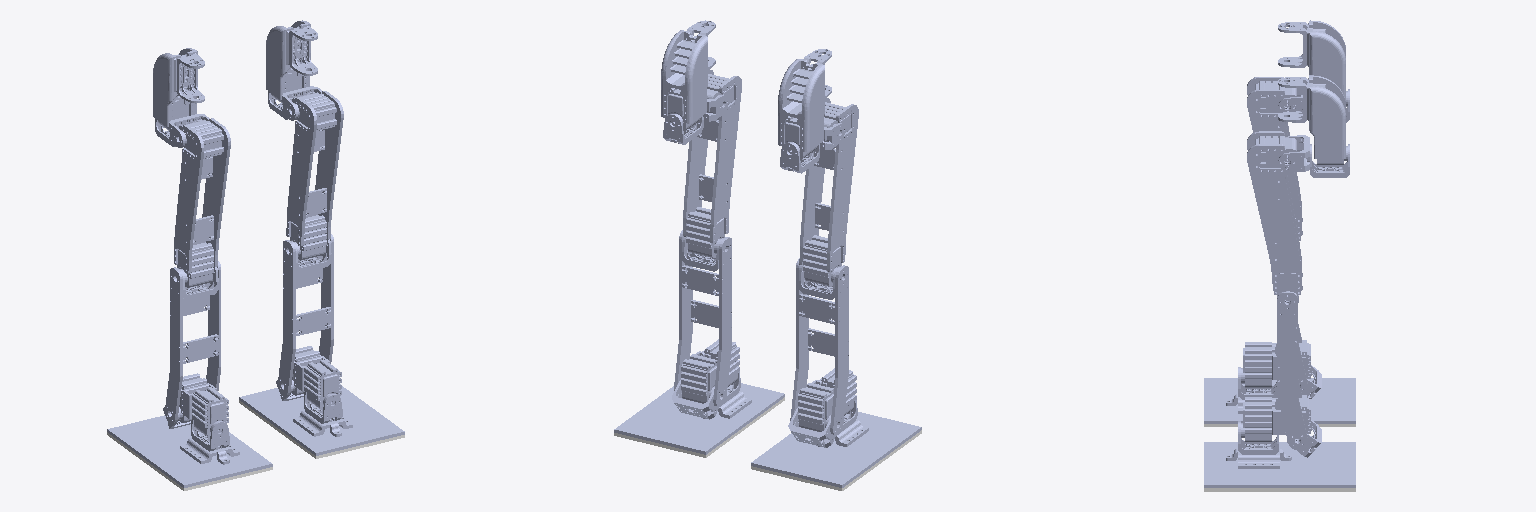
--- What the picture shows (computed from the rendered views, not written in the file) ---
Views: 3 orthographic renders of the robot side by side, from view 1: azimuth 30°, elevation 25°; view 2: azimuth 150°, elevation 25°; view 3: azimuth 270°, elevation 25°.
Robot: biped_sensor — 21 links, 20 joints (20 revolute); root link bacino; default pose: every joint at zero.
Links seen in each view (by area): view 1: femore_sx, femore_dx, piede_dx, piede_sx, tibia_dx, tibia_sx, virtual_alto_sx, virtual_alto_dx, virtual_piede_sx, virtual_piede_dx, virtual_basso_dx, virtual_basso_sx; view 2: femore_dx, femore_sx, piede_dx, tibia_dx, tibia_sx, piede_sx, virtual_alto_sx, virtual_alto_dx, virtual_piede_sx, virtual_piede_dx, virtual_basso_sx, virtual_basso_dx; view 3: piede_sx, femore_sx, piede_dx, virtual_alto_sx, tibia_sx, virtual_alto_dx, femore_dx, virtual_piede_sx, virtual_piede_dx, virtual_basso_sx, tibia_dx.
Boxes of the visible links, left/top/right/bottom form: femore_sx: left=286, top=91, right=343, bottom=260; femore_dx: left=174, top=118, right=230, bottom=287; piede_dx: left=107, top=415, right=272, bottom=487; piede_sx: left=239, top=386, right=404, bottom=455; tibia_dx: left=163, top=261, right=220, bottom=428; tibia_sx: left=276, top=234, right=333, bottom=400; virtual_alto_sx: left=266, top=20, right=317, bottom=103; virtual_alto_dx: left=153, top=48, right=204, bottom=130; virtual_piede_sx: left=292, top=346, right=341, bottom=410; virtual_piede_dx: left=179, top=373, right=228, bottom=437; virtual_basso_dx: left=155, top=114, right=209, bottom=147; virtual_basso_sx: left=268, top=86, right=321, bottom=120; femore_dx: left=799, top=98, right=858, bottom=286; femore_sx: left=683, top=70, right=741, bottom=257; piede_dx: left=751, top=400, right=921, bottom=487; tibia_dx: left=788, top=258, right=848, bottom=447; tibia_sx: left=672, top=230, right=731, bottom=419; piede_sx: left=614, top=371, right=784, bottom=454; virtual_alto_sx: left=661, top=20, right=715, bottom=130; virtual_alto_dx: left=778, top=49, right=831, bottom=159; virtual_piede_sx: left=681, top=339, right=739, bottom=403; virtual_piede_dx: left=798, top=368, right=856, bottom=431; virtual_basso_sx: left=663, top=94, right=728, bottom=144; virtual_basso_dx: left=780, top=123, right=845, bottom=173; piede_sx: left=1204, top=421, right=1355, bottom=487; femore_sx: left=1247, top=131, right=1302, bottom=302; piede_dx: left=1204, top=367, right=1355, bottom=423; virtual_alto_sx: left=1278, top=75, right=1347, bottom=164; tibia_sx: left=1277, top=291, right=1321, bottom=457; virtual_alto_dx: left=1278, top=20, right=1347, bottom=106; femore_dx: left=1247, top=77, right=1302, bottom=240; virtual_piede_sx: left=1241, top=395, right=1310, bottom=442; virtual_piede_dx: left=1241, top=340, right=1310, bottom=387; virtual_basso_sx: left=1278, top=135, right=1349, bottom=177; tibia_dx: left=1298, top=324, right=1321, bottom=398.
Bounding box of the posed robot: 0.299 × 0.18 × 0.4994 m (x, y, z).
Meshes: 21 distinct files referenced, 20 mesh visuals loaded (20 binary STL); not drawn: 1 (reference not matched to a file when rendering).

The robot description file, URDF, robot "biped_sensor":
<?xml version="1.0" encoding="utf-8"?>
<!-- This URDF was automatically created by SolidWorks to URDF Exporter! Originally created by Stephen Brawner ([email redacted]) 
     Commit Version: 1.5.1-0-g916b5db  Build Version: 1.5.7152.31018
     For more information, please see http://wiki.ros.org/sw_urdf_exporter -->
<robot
  name="biped_sensor">

  <gazebo reference="base_link"/>

  <gazebo>
    <plugin filename="libgazebo_ros_control.so" name="gazebo_ros_control">
      <robotNamespace>/biped_sensor</robotNamespace>
    </plugin>
  </gazebo>


  <link
    name="bacino">
    <inertial>
      <origin
        xyz="-0.0010167 -0.0077191 -0.020469"
        rpy="0 0 0" />
      <mass
        value="0.3772" />
      <inertia
        ixx="0.00018106"
        ixy="4.6379E-08"
        ixz="-1.232E-08"
        iyy="0.00082586"
        iyz="6.4316E-08"
        izz="0.00074354" />
    </inertial>
    <visual>
      <origin
        xyz="0 0 0"
        rpy="0 0 0" />
      <geometry>
        <mesh
          filename="package://biped_sensor/meshes/bacino.STL" />
      </geometry>
      <material
        name="">
        <color
          rgba="0.79216 0.81961 0.93333 1" />
      </material>
    </visual>
    <collision>
      <origin
        xyz="0 0 0"
        rpy="0 0 0" />
      <geometry>
        <mesh
          filename="package://biped_sensor/meshes/bacino.STL" />
      </geometry>
    </collision>
  </link>

  <link
    name="virtual_alto_sx">
    <inertial>
      <origin
        xyz="-0.0458713543037101 1.77400302212027E-07 0.056450738451267"
        rpy="0 0 0" />
      <mass
        value="0.115855730586399" />
      <inertia
        ixx="5.95435827519876E-05"
        ixy="7.42733186143597E-11"
        ixz="5.41125190516309E-06"
        iyy="5.67407082058772E-05"
        iyz="4.2632433524735E-11"
        izz="3.27572329141349E-05" />
    </inertial>
    <visual>
      <origin
        xyz="0 0 0"
        rpy="0 0 0" />
      <geometry>
        <mesh
          filename="package://biped_sensor/meshes/virtual_alto_sx.STL" />
      </geometry>
      <material
        name="">
        <color
          rgba="0.792156862745098 0.819607843137255 0.933333333333333 1" />
      </material>
    </visual>
    <collision>
      <origin
        xyz="0 0 0"
        rpy="0 0 0" />
      <geometry>
        <mesh
          filename="package://biped_sensor/meshes/virtual_alto_sx.STL" />
      </geometry>
    </collision>
  </link>

  <joint
    name="bacino_femore_sx_Z"
    type="revolute">
    <origin
      xyz="0.075562 0.035045 -0.0054533"
      rpy="3.1416 0 -1.5708" />
    <parent
      link="bacino" />
    <child
      link="virtual_alto_sx" />
    <axis
      xyz="0 0 1" />
    <limit
      lower="-2"
      upper="2"
      effort="1.5"
      velocity="1.0" />
    <dynamics damping="0.2" />
  </joint>

  <link
    name="virtual_basso_sx">
    <inertial>
      <origin
        xyz="0.0331706638240386 -9.77406590331464E-06 0.00748377063464011"
        rpy="0 0 0" />
      <mass
        value="0.014413364941098" />
      <inertia
        ixx="4.05355408980812E-06"
        ixy="-2.34400096105636E-09"
        ixz="2.49416261161307E-09"
        iyy="4.41748623627705E-06"
        iyz="-1.4948375023912E-10"
        izz="6.03680654683605E-06" />
    </inertial>
    <visual>
      <origin
        xyz="0 0 0"
        rpy="0 0 0" />
      <geometry>
        <mesh
          filename="package://biped_sensor/meshes/virtual_basso_sx.STL" />
      </geometry>
      <material
        name="">
        <color
          rgba="0.792156862745098 0.819607843137255 0.933333333333333 1" />
      </material>
    </visual>
    <collision>
      <origin
        xyz="0 0 0"
        rpy="0 0 0" />
      <geometry>
        <mesh
          filename="package://biped_sensor/meshes/virtual_basso_sx.STL" />
      </geometry>
    </collision>
  </link>

  <joint
    name="bacino_femore_sx_X"
    type="revolute">
    <origin
      xyz="0 0 0.0944"
      rpy="0 0 3.1416" />
    <parent
      link="virtual_alto_sx" />
    <child
      link="virtual_basso_sx" />
    <axis
      xyz="1 0 0" />
    <limit
      lower="-2"
      upper="2"
      effort="1.5"
      velocity="1.0" />
    <dynamics damping="0.2" />
  </joint>

  <link
    name="femore_sx">
    <inertial>
      <origin
        xyz="0.0087159997309831 0.0793352773114439 -0.000539956495398536"
        rpy="0 0 0" />
      <mass
        value="0.146600424813841" />
      <inertia
        ixx="0.00012999246707627"
        ixy="2.08196637366308E-05"
        ixz="-1.62279859323434E-07"
        iyy="3.1754243307238E-05"
        iyz="1.62283745671491E-07"
        izz="0.000141575751539658" />
    </inertial>
    <visual>
      <origin
        xyz="0 0 0"
        rpy="0 0 0" />
      <geometry>
        <mesh
          filename="package://biped_sensor/meshes/femore_sx.STL" />
      </geometry>
      <material
        name="">
        <color
          rgba="0.792156862745098 0.819607843137255 0.933333333333333 1" />
      </material>
    </visual>
    <collision>
      <origin
        xyz="0 0 0"
        rpy="0 0 0" />
      <geometry>
        <mesh
          filename="package://biped_sensor/meshes/femore_sx.STL" />
      </geometry>
    </collision>
  </link>

  <joint
    name="bacino_femore_sx_Y"
    type="revolute">
    <origin
      xyz="0 0 0"
      rpy="1.5708 0 -3.1416" />
    <parent
      link="virtual_basso_sx" />
    <child
      link="femore_sx" />
    <axis
      xyz="0 0 1" />
    <limit
      lower="-2"
      upper="2"
      effort="1.5"
      velocity="1.0" />
    <dynamics damping="0.2" />
  </joint>

  <link
    name="tibia_sx">
    <inertial>
      <origin
        xyz="-0.00415234759626393 0.0894307278383192 5.13680905876723E-06"
        rpy="0 0 0" />
      <mass
        value="0.0609737488765016" />
      <inertia
        ixx="0.000129190733657075"
        ixy="6.8224199810698E-06"
        ixz="-1.79530526295318E-09"
        iyy="1.03752626762394E-05"
        iyz="3.85150979961607E-09"
        izz="0.000125514455995523" />
    </inertial>
    <visual>
      <origin
        xyz="0 0 0"
        rpy="0 0 0" />
      <geometry>
        <mesh
          filename="package://biped_sensor/meshes/tibia_sx.STL" />
      </geometry>
      <material
        name="">
        <color
          rgba="0.792156862745098 0.819607843137255 0.933333333333333 1" />
      </material>
    </visual>
    <collision>
      <origin
        xyz="0 0 0"
        rpy="0 0 0" />
      <geometry>
        <mesh
          filename="package://biped_sensor/meshes/tibia_sx.STL" />
      </geometry>
    </collision>
  </link>

  <joint
    name="ginocchio_sx"
    type="revolute">
    <origin
      xyz="-0.00067494 0.18 0"
      rpy="0 0 0" />
    <parent
      link="femore_sx" />
    <child
      link="tibia_sx" />
    <axis
      xyz="0 0 1" />
    <limit
      lower="-2"
      upper="2"
      effort="1.5"
      velocity="1.0" />
    <dynamics damping="0.2" />
  </joint>

  <link
    name="virtual_piede_sx">
    <inertial>
      <origin
        xyz="-0.000411479921011162 -0.0135357079048356 -0.0233858763757063"
        rpy="0 0 0" />
      <mass
        value="0.0961864580614458" />
      <inertia
        ixx="2.47751447574637E-05"
        ixy="1.62282542904181E-07"
        ixz="6.53562637468301E-22"
        iyy="1.55131393235614E-05"
        iyz="1.62281062090379E-07"
        izz="2.46513644151311E-05" />
    </inertial>
    <visual>
      <origin
        xyz="0 0 0"
        rpy="0 0 0" />
      <geometry>
        <mesh
          filename="package://biped_sensor/meshes/virtual_piede_sx.STL" />
      </geometry>
      <material
        name="">
        <color
          rgba="0.792156862745098 0.819607843137255 0.933333333333333 1" />
      </material>
    </visual>
    <collision>
      <origin
        xyz="0 0 0"
        rpy="0 0 0" />
      <geometry>
        <mesh
          filename="package://biped_sensor/meshes/virtual_piede_sx.STL" />
      </geometry>
    </collision>
  </link>

  <joint
    name="tibia_piede_sx_Y"
    type="revolute">
    <origin
      xyz="-0.011973 0.18 0"
      rpy="0 -1.5708 0" />
    <parent
      link="tibia_sx" />
    <child
      link="virtual_piede_sx" />
    <axis
      xyz="1 0 0" />
    <limit
      lower="-2"
      upper="2"
      effort="1.5"
      velocity="1.0" />
    <dynamics damping="0.2" />
  </joint>

  <link
    name="piede_sx">
    <inertial>
      <origin
        xyz="0.0104221050632021 -0.025944747822545 -0.0363779140693963"
        rpy="0 0 0" />
      <mass
        value="0.107769425869012" />
      <inertia
        ixx="0.000240619406274044"
        ixy="9.21935184508345E-08"
        ixz="-1.49825413122569E-10"
        iyy="0.000107959697844856"
        iyz="4.68734752434789E-09"
        izz="0.000346437448236055" />
    </inertial>
    <visual>
      <origin
        xyz="0 0 0"
        rpy="0 0 0" />
      <geometry>
        <mesh
          filename="package://biped_sensor/meshes/piede_sx.STL" />
      </geometry>
      <material
        name="">
        <color
          rgba="0.792156862745098 0.819607843137255 0.933333333333333 1" />
      </material>
    </visual>
    <collision>
      <origin
        xyz="0 0 0"
        rpy="0 0 0" />
      <geometry>
        <mesh
          filename="package://biped_sensor/meshes/piede_sx.STL" />
      </geometry>
    </collision>
  </link>

  <joint
    name="tibia_piede_sx_X"
    type="revolute">
    <origin
      xyz="0 0 0"
      rpy="1.5708 0 0" />
    <parent
      link="virtual_piede_sx" />
    <child
      link="piede_sx" />
    <axis
      xyz="0 1 0" />
    <limit
      lower="-2"
      upper="2"
      effort="1.5"
      velocity="1.0" />
    <dynamics damping="0.2" />
  </joint>

  <link
    name="sensore_sx2">
    <inertial>
      <origin
        xyz="0 1.38777878078145E-17 0.002"
        rpy="0 0 0" />
      <mass
        value="0.010584" />
      <inertia
        ixx="7.15831200000002E-06"
        ixy="2.54604797674591E-20"
        ixz="1.85382296088951E-22"
        iyy="3.18931200000001E-06"
        iyz="5.16259851144025E-22"
        izz="1.03194E-05" />
    </inertial>
    <visual>
      <origin
        xyz="0 0 0"
        rpy="0 0 0" />
      <geometry>
        <mesh
          filename="package://biped_sensor/meshes/sensore_sx2.STL" />
      </geometry>
      <material
        name="">
        <color
          rgba="1 1 1 1" />
      </material>
    </visual>
    <collision>
      <origin
        xyz="0 0 0"
        rpy="0 0 0" />
      <geometry>
        <mesh
          filename="package://biped_sensor/meshes/sensore_sx2.STL" />
      </geometry>
    </collision>
  </link>

  <joint
    name="joint_sensore_sx2"
    type="revolute">
    <origin
      xyz="-0.017 -0.066 -0.045"
      rpy="0 0 0" />
    <parent
      link="piede_sx" />
    <child
      link="sensore_sx2" />
    <axis
      xyz="0 0 0" />
    <limit
      lower="0"
      upper="0"
      effort="0"
      velocity="0.0" />    
  </joint>
  <link
    name="sensore_sx1">
    <inertial>
      <origin
        xyz="0 1.38777878078145E-17 0.002"
        rpy="0 0 0" />
      <mass
        value="0.010584" />
      <inertia
        ixx="7.15831200000001E-06"
        ixy="2.68227883109521E-20"
        ixz="3.54287231429522E-23"
        iyy="3.18931200000001E-06"
        iyz="5.3605509847655E-22"
        izz="1.03194E-05" />
    </inertial>
    <visual>
      <origin
        xyz="0 0 0"
        rpy="0 0 0" />
      <geometry>
        <mesh
          filename="package://biped_sensor/meshes/sensore_sx1.STL" />
      </geometry>
      <material
        name="">
        <color
          rgba="1 1 1 1" />
      </material>
    </visual>
    <collision>
      <origin
        xyz="0 0 0"
        rpy="0 0 0" />
      <geometry>
        <mesh
          filename="package://biped_sensor/meshes/sensore_sx1.STL" />
      </geometry>
    </collision>
  </link>

  <joint
    name="joint_sensore_sx1"
    type="revolute">
    <origin
      xyz="0.043 -0.066 -0.045"
      rpy="0 0 0" />
    <parent
      link="piede_sx" />
    <child
      link="sensore_sx1" />
    <axis
      xyz="0 0 0" />
    <limit
      lower="0"
      upper="0"
      effort="0"
      velocity="0.0" />
  </joint>
  <link
    name="sensore_sx4">
    <inertial>
      <origin
        xyz="-6.93889390390723E-18 2.77555756156289E-17 0.002"
        rpy="0 0 0" />
      <mass
        value="0.010584" />
      <inertia
        ixx="7.15831200000002E-06"
        ixy="2.45622226379735E-20"
        ixz="1.50648348459824E-22"
        iyy="3.18931200000001E-06"
        iyz="1.62459053578985E-22"
        izz="1.03194E-05" />
    </inertial>
    <visual>
      <origin
        xyz="0 0 0"
        rpy="0 0 0" />
      <geometry>
        <mesh
          filename="package://biped_sensor/meshes/sensore_sx4.STL" />
      </geometry>
      <material
        name="">
        <color
          rgba="1 1 1 1" />
      </material>
    </visual>
    <collision>
      <origin
        xyz="0 0 0"
        rpy="0 0 0" />
      <geometry>
        <mesh
          filename="package://biped_sensor/meshes/sensore_sx4.STL" />
      </geometry>
    </collision>
  </link>

  <joint
    name="joint_sensore_sx4"
    type="revolute">
    <origin
      xyz="-0.017 0.024 -0.045"
      rpy="0 0 0" />
    <parent
      link="piede_sx" />
    <child
      link="sensore_sx4" />
    <axis
      xyz="0 0 0" />
    <limit
      lower="0"
      upper="0"
      effort="0"
      velocity="0.0" />
  </joint>
  <link
    name="sensore_sx3">
    <inertial>
      <origin
        xyz="1.38777878078145E-17 1.38777878078145E-17 0.002"
        rpy="0 0 0" />
      <mass
        value="0.010584" />
      <inertia
        ixx="7.15831200000002E-06"
        ixy="2.73861475777991E-20"
        ixz="6.48790044796476E-23"
        iyy="3.18931200000001E-06"
        iyz="4.75107592308875E-22"
        izz="1.03194E-05" />
    </inertial>
    <visual>
      <origin
        xyz="0 0 0"
        rpy="0 0 0" />
      <geometry>
        <mesh
          filename="package://biped_sensor/meshes/sensore_sx3.STL" />
      </geometry>
      <material
        name="">
        <color
          rgba="1 1 1 1" />
      </material>
    </visual>
    <collision>
      <origin
        xyz="0 0 0"
        rpy="0 0 0" />
      <geometry>
        <mesh
          filename="package://biped_sensor/meshes/sensore_sx3.STL" />
      </geometry>
    </collision>
  </link>

  <joint
    name="joint_sensore_sx3"
    type="revolute">
    <origin
      xyz="0.043 0.024 -0.045"
      rpy="0 0 0" />
    <parent
      link="piede_sx" />
    <child
      link="sensore_sx3" />
    <axis
      xyz="0 0 0" />
    <limit
      lower="0"
      upper="0"
      effort="0"
      velocity="0.0" />
  </joint>
  <link
    name="virtual_alto_dx">
    <inertial>
      <origin
        xyz="-0.0458713543078891 1.7739708756126E-07 0.0564507384533377"
        rpy="0 0 0" />
      <mass
        value="0.115855730556867" />
      <inertia
        ixx="5.9543582747119E-05"
        ixy="7.42785362786974E-11"
        ixz="5.41125190849842E-06"
        iyy="5.67407081978897E-05"
        iyz="4.26352262181005E-11"
        izz="3.27572329033616E-05" />
    </inertial>
    <visual>
      <origin
        xyz="0 0 0"
        rpy="0 0 0" />
      <geometry>
        <mesh
          filename="package://biped_sensor/meshes/virtual_alto_dx.STL" />
      </geometry>
      <material
        name="">
        <color
          rgba="0.792156862745098 0.819607843137255 0.933333333333333 1" />
      </material>
    </visual>
    <collision>
      <origin
        xyz="0 0 0"
        rpy="0 0 0" />
      <geometry>
        <mesh
          filename="package://biped_sensor/meshes/virtual_alto_dx.STL" />
      </geometry>
    </collision>
  </link>

  <joint
    name="bacino_femore_dx_Z"
    type="revolute">
    <origin
      xyz="-0.077438 0.035045 -0.0054533"
      rpy="3.1416 0 -1.5708" />
    <parent
      link="bacino" />
    <child
      link="virtual_alto_dx" />
    <axis
      xyz="0 0 1" />
    <limit
      lower="-2"
      upper="2"
      effort="1.5"
      velocity="1.0" />
    <dynamics damping="0.2" />
  </joint>
  <link
    name="virtual_basso_dx">
    <inertial>
      <origin
        xyz="0.0331706638240384 -9.77406588083263E-06 0.00748377063464012"
        rpy="0 0 0" />
      <mass
        value="0.014413364941098" />
      <inertia
        ixx="4.05355408980812E-06"
        ixy="-2.34400096130375E-09"
        ixz="2.49416261161241E-09"
        iyy="4.41748623627704E-06"
        iyz="-1.4948375023736E-10"
        izz="6.03680654683604E-06" />
    </inertial>
    <visual>
      <origin
        xyz="0 0 0"
        rpy="0 0 0" />
      <geometry>
        <mesh
          filename="package://biped_sensor/meshes/virtual_basso_dx.STL" />
      </geometry>
      <material
        name="">
        <color
          rgba="0.792156862745098 0.819607843137255 0.933333333333333 1" />
      </material>
    </visual>
    <collision>
      <origin
        xyz="0 0 0"
        rpy="0 0 0" />
      <geometry>
        <mesh
          filename="package://biped_sensor/meshes/virtual_basso_dx.STL" />
      </geometry>
    </collision>
  </link>

  <joint
    name="bacino_femore_dx_X"
    type="revolute">
    <origin
      xyz="0 0 0.0944"
      rpy="0 0 3.1416" />
    <parent
      link="virtual_alto_dx" />
    <child
      link="virtual_basso_dx" />
    <axis
      xyz="1 0 0" />
    <limit
      lower="-2"
      upper="2"
      effort="1.5"
      velocity="1.0" />
    <dynamics damping="0.2" />
  </joint>
  <link
    name="femore_dx">
    <inertial>
      <origin
        xyz="0.00871599973098067 0.079335277311443 -0.000539956495398425"
        rpy="0 0 0" />
      <mass
        value="0.146600424813841" />
      <inertia
        ixx="0.00012999246707627"
        ixy="2.08196637366306E-05"
        ixz="-1.62279859323436E-07"
        iyy="3.17542433072384E-05"
        iyz="1.62283745671493E-07"
        izz="0.000141575751539659" />
    </inertial>
    <visual>
      <origin
        xyz="0 0 0"
        rpy="0 0 0" />
      <geometry>
        <mesh
          filename="package://biped_sensor/meshes/femore_dx.STL" />
      </geometry>
      <material
        name="">
        <color
          rgba="0.792156862745098 0.819607843137255 0.933333333333333 1" />
      </material>
    </visual>
    <collision>
      <origin
        xyz="0 0 0"
        rpy="0 0 0" />
      <geometry>
        <mesh
          filename="package://biped_sensor/meshes/femore_dx.STL" />
      </geometry>
    </collision>
  </link>

  <joint
    name="bacino_femore_dx_Y"
    type="revolute">
    <origin
      xyz="0 0 0"
      rpy="1.5708 0 -3.1416" />
    <parent
      link="virtual_basso_dx" />
    <child
      link="femore_dx" />
    <axis
      xyz="0 0 1" />
    <limit
      lower="-2"
      upper="2"
      effort="1.5"
      velocity="1.0" />
    <dynamics damping="0.2" />
  </joint>

  <link
    name="tibia_dx">
    <inertial>
      <origin
        xyz="-0.00415234759626396 0.0894307278383193 5.13680905871172E-06"
        rpy="0 0 0" />
      <mass
        value="0.0609737488765017" />
      <inertia
        ixx="0.000129190733657075"
        ixy="6.82241998106981E-06"
        ixz="-1.7953052629526E-09"
        iyy="1.03752626762394E-05"
        iyz="3.85150979955106E-09"
        izz="0.000125514455995523" />
    </inertial>
    <visual>
      <origin
        xyz="0 0 0"
        rpy="0 0 0" />
      <geometry>
        <mesh
          filename="package://biped_sensor/meshes/tibia_dx.STL" />
      </geometry>
      <material
        name="">
        <color
          rgba="0.792156862745098 0.819607843137255 0.933333333333333 1" />
      </material>
    </visual>
    <collision>
      <origin
        xyz="0 0 0"
        rpy="0 0 0" />
      <geometry>
        <mesh
          filename="package://biped_sensor/meshes/tibia_dx.STL" />
      </geometry>
    </collision>
  </link>

  <joint
    name="ginocchio_dx"
    type="revolute">
    <origin
      xyz="-0.00067494 0.18 0"
      rpy="0 0 0" />
    <parent
      link="femore_dx" />
    <child
      link="tibia_dx" />
    <axis
      xyz="0 0 1" />
    <limit
      lower="-2"
      upper="2"
      effort="1.5"
      velocity="1.0" />
    <dynamics damping="0.2" />
  </joint>

  <link
    name="virtual_piede_dx">
    <inertial>
      <origin
        xyz="-0.000411479921011329 -0.0135357079048357 -0.023385876375704"
        rpy="0 0 0" />
      <mass
        value="0.0961864580614458" />
      <inertia
        ixx="2.47751447574637E-05"
        ixy="1.62282542904189E-07"
        ixz="2.19838515084382E-21"
        iyy="1.55131393235614E-05"
        iyz="1.62281062090384E-07"
        izz="2.46513644151311E-05" />
    </inertial>
    <visual>
      <origin
        xyz="0 0 0"
        rpy="0 0 0" />
      <geometry>
        <mesh
          filename="package://biped_sensor/meshes/virtual_piede_dx.STL" />
      </geometry>
      <material
        name="">
        <color
          rgba="0.792156862745098 0.819607843137255 0.933333333333333 1" />
      </material>
    </visual>
    <collision>
      <origin
        xyz="0 0 0"
        rpy="0 0 0" />
      <geometry>
        <mesh
          filename="package://biped_sensor/meshes/virtual_piede_dx.STL" />
      </geometry>
    </collision>
  </link>

  <joint
    name="tibia_piede_dx_Y"
    type="revolute">
    <origin
      xyz="-0.011973 0.18 0"
      rpy="0 -1.5708 0" />
    <parent
      link="tibia_dx" />
    <child
      link="virtual_piede_dx" />
    <axis
      xyz="1 0 0" />
    <limit
      lower="-2"
      upper="2"
      effort="1.5"
      velocity="1.0" />
    <dynamics damping="0.2" />
  </joint>
  <link
    name="piede_dx">
    <inertial>
      <origin
        xyz="-0.0104223968155576 -0.025944747822544 -0.0363779140693953"
        rpy="0 0 0" />
      <mass
        value="0.107769425869013" />
      <inertia
        ixx="0.000240619406274045"
        ixy="-9.21930554201112E-08"
        ixz="-1.49825413127184E-10"
        iyy="0.000107959697844857"
        iyz="4.68734753097106E-09"
        izz="0.000346437448236057" />
    </inertial>
    <visual>
      <origin
        xyz="0 0 0"
        rpy="0 0 0" />
      <geometry>
        <mesh
          filename="package://biped_sensor/meshes/piede_dx.STL" />
      </geometry>
      <material
        name="">
        <color
          rgba="0.792156862745098 0.819607843137255 0.933333333333333 1" />
      </material>
    </visual>
    <collision>
      <origin
        xyz="0 0 0"
        rpy="0 0 0" />
      <geometry>
        <mesh
          filename="package://biped_sensor/meshes/piede_dx.STL" />
      </geometry>
    </collision>
  </link>

  <joint
    name="tibia_piede_dx_X"
    type="revolute">
    <origin
      xyz="0 0 0"
      rpy="1.5708 0 0" />
    <parent
      link="virtual_piede_dx" />
    <child
      link="piede_dx" />
    <axis
      xyz="0 1 0" />
    <limit
      lower="-2"
      upper="2"
      effort="1.5"
      velocity="1.0" />
    <dynamics damping="0.2" />
  </joint>

  <link
    name="sensore_dx1">
    <inertial>
      <origin
        xyz="0 -3.46944695195361E-18 0.002"
        rpy="0 0 0" />
      <mass
        value="0.010584" />
      <inertia
        ixx="7.158312E-06"
        ixy="3.85663185018525E-20"
        ixz="1.14713681641955E-22"
        iyy="3.189312E-06"
        iyz="7.71248556814863E-22"
        izz="1.03194E-05" />
    </inertial>
    <visual>
      <origin
        xyz="0 0 0"
        rpy="0 0 0" />
      <geometry>
        <mesh
          filename="package://biped_sensor/meshes/sensore_dx1.STL" />
      </geometry>
      <material
        name="">
        <color
          rgba="1 1 1 1" />
      </material>
    </visual>
    <collision>
      <origin
        xyz="0 0 0"
        rpy="0 0 0" />
      <geometry>
        <mesh
          filename="package://biped_sensor/meshes/sensore_dx1.STL" />
      </geometry>
    </collision>
  </link>

  <joint
    name="joint_sensore_dx1"
    type="revolute">
    <origin
      xyz="-0.043 -0.066 -0.045"
      rpy="0 0 0" />
    <parent
      link="piede_dx" />
    <child
      link="sensore_dx1" />
    <axis
      xyz="0 0 0" />
    <limit
      lower="0"
      upper="0"
      effort="0"
      velocity="0.0" />
  </joint>

  <link
    name="sensore_dx2">
    <inertial>
      <origin
        xyz="-6.93889390390723E-18 -3.46944695195361E-18 0.002"
        rpy="0 0 0" />
      <mass
        value="0.010584" />
      <inertia
        ixx="7.158312E-06"
        ixy="4.03443633426516E-20"
        ixz="1.56701843511805E-22"
        iyy="3.189312E-06"
        iyz="7.05264005264693E-22"
        izz="1.03194E-05" />
    </inertial>
    <visual>
      <origin
        xyz="0 0 0"
        rpy="0 0 0" />
      <geometry>
        <mesh
          filename="package://biped_sensor/meshes/sensore_dx2.STL" />
      </geometry>
      <material
        name="">
        <color
          rgba="1 1 1 1" />
      </material>
    </visual>
    <collision>
      <origin
        xyz="0 0 0"
        rpy="0 0 0" />
      <geometry>
        <mesh
          filename="package://biped_sensor/meshes/sensore_dx2.STL" />
      </geometry>
    </collision>
  </link>

  <joint
    name="joint_sensore_dx2"
    type="revolute">
    <origin
      xyz="0.017 -0.066 -0.045"
      rpy="0 0 0" />
    <parent
      link="piede_dx" />
    <child
      link="sensore_dx2" />
    <axis
      xyz="0 0 0" />
    <limit
      lower="0"
      upper="0"
      effort="0"
      velocity="0.0" />
  </joint>

  <link
    name="sensore_dx3">
    <inertial>
      <origin
        xyz="0 0 0.002"
        rpy="0 0 0" />
      <mass
        value="0.010584" />
      <inertia
        ixx="7.158312E-06"
        ixy="-3.78849037552299E-20"
        ixz="1.53011166969175E-22"
        iyy="3.189312E-06"
        iyz="-7.84512549293194E-22"
        izz="1.03194E-05" />
    </inertial>
    <visual>
      <origin
        xyz="0 0 0"
        rpy="0 0 0" />
      <geometry>
        <mesh
          filename="package://biped_sensor/meshes/sensore_dx3.STL" />
      </geometry>
      <material
        name="">
        <color
          rgba="1 1 1 1" />
      </material>
    </visual>
    <collision>
      <origin
        xyz="0 0 0"
        rpy="0 0 0" />
      <geometry>
        <mesh
          filename="package://biped_sensor/meshes/sensore_dx3.STL" />
      </geometry>
    </collision>
  </link>

  <joint
    name="joint_sensore_dx3"
    type="revolute">
    <origin
      xyz="-0.043 0.024 -0.041"
      rpy="-3.1416 0 -3.1416" />
    <parent
      link="piede_dx" />
    <child
      link="sensore_dx3" />
    <axis
      xyz="0 0 0" />
    <limit
      lower="0"
      upper="0"
      effort="0"
      velocity="0.0" />
  </joint>

  <link
    name="sensore_dx4">
    <inertial>
      <origin
        xyz="-6.93889390390723E-18 0 0.002"
        rpy="0 0 0" />
      <mass
        value="0.010584" />
      <inertia
        ixx="7.158312E-06"
        ixy="-4.04818965122291E-20"
        ixz="1.1605392352247E-22"
        iyy="3.189312E-06"
        iyz="-7.41765833391343E-22"
        izz="1.03194E-05" />
    </inertial>
    <visual>
      <origin
        xyz="0 0 0"
        rpy="0 0 0" />
      <geometry>
        <mesh
          filename="package://biped_sensor/meshes/sensore_dx4.STL" />
      </geometry>
      <material
        name="">
        <color
          rgba="1 1 1 1" />
      </material>
    </visual>
    <collision>
      <origin
        xyz="0 0 0"
        rpy="0 0 0" />
      <geometry>
        <mesh
          filename="package://biped_sensor/meshes/sensore_dx4.STL" />
      </geometry>
    </collision>
  </link>

  <joint
    name="joint_sensore_dx4"
    type="revolute">
    <origin
      xyz="0.017 0.024 -0.041"
      rpy="-3.1416 0 -3.1416" />
    <parent
      link="piede_dx" />
    <child
      link="sensore_dx4" />
    <axis
      xyz="0 0 0" />
    <limit
      lower="0"
      upper="0"
      effort="0"
      velocity="0.0" />
  </joint>




<!--******************* TRANSMISSION **********************-->

    <transmission name="trans_bacino_femore_sx_Z">
        <type>transmission_interface/SimpleTransmission</type>
        <joint name="bacino_femore_sx_Z">
            <hardwareInterface>hardware_interface/EffortJointInterface</hardwareInterface>
        </joint>
        <actuator name="bacino_femore_sx_Z_motor">
            <hardwareInterface>hardware_interface/EffortJointInterface</hardwareInterface>
            <mechanicalReduction>1</mechanicalReduction>
        </actuator>
    </transmission>

    <transmission name="trans_bacino_femore_sx_Y">
        <type>transmission_interface/SimpleTransmission</type>
        <joint name="bacino_femore_sx_Y">
            <hardwareInterface>hardware_interface/EffortJointInterface</hardwareInterface>
        </joint>
        <actuator name="bacino_femore_sx_Y_motor">
            <hardwareInterface>hardware_interface/EffortJointInterface</hardwareInterface>
            <mechanicalReduction>1</mechanicalReduction>
        </actuator>
    </transmission>

    <transmission name="trans_bacino_femore_sx_X">
        <type>transmission_interface/SimpleTransmission</type>
        <joint name="bacino_femore_sx_X">
            <hardwareInterface>hardware_interface/EffortJointInterface</hardwareInterface>
        </joint>
        <actuator name="bacino_femore_sx_X_motor">
            <hardwareInterface>hardware_interface/EffortJointInterface</hardwareInterface>
            <mechanicalReduction>1</mechanicalReduction>
        </actuator>
    </transmission>

    <transmission name="trans_ginocchio_sx">
        <type>transmission_interface/SimpleTransmission</type>
        <joint name="ginocchio_sx">
            <hardwareInterface>hardware_interface/EffortJointInterface</hardwareInterface>
        </joint>
        <actuator name="ginocchio_sx_motor">
            <hardwareInterface>hardware_interface/EffortJointInterface</hardwareInterface>
            <mechanicalReduction>1</mechanicalReduction>
        </actuator>
    </transmission>

    <transmission name="trans_tibia_piede_sx_X">
        <type>transmission_interface/SimpleTransmission</type>
        <joint name="tibia_piede_sx_X">
            <hardwareInterface>hardware_interface/EffortJointInterface</hardwareInterface>
        </joint>
        <actuator name="tibia_piede_sx_X_motor">
            <hardwareInterface>hardware_interface/EffortJointInterface</hardwareInterface>
            <mechanicalReduction>1</mechanicalReduction>
        </actuator>
    </transmission>

    <transmission name="trans_tibia_piede_sx_Y">
        <type>transmission_interface/SimpleTransmission</type>
        <joint name="tibia_piede_sx_Y">
            <hardwareInterface>hardware_interface/EffortJointInterface</hardwareInterface>
        </joint>
        <actuator name="tibia_piede_sx_Y_motor">
            <hardwareInterface>hardware_interface/EffortJointInterface</hardwareInterface>
            <mechanicalReduction>1</mechanicalReduction>
        </actuator>
    </transmission>

    <transmission name="trans_bacino_femore_dx_Z">
        <type>transmission_interface/SimpleTransmission</type>
        <joint name="bacino_femore_dx_Z">
            <hardwareInterface>hardware_interface/EffortJointInterface</hardwareInterface>
        </joint>
        <actuator name="bacino_femore_dx_Z_motor">
            <hardwareInterface>hardware_interface/EffortJointInterface</hardwareInterface>
            <mechanicalReduction>1</mechanicalReduction>
        </actuator>
    </transmission>

    <transmission name="trans_bacino_femore_dx_Y">
        <type>transmission_interface/SimpleTransmission</type>
        <joint name="bacino_femore_dx_Y">
            <hardwareInterface>hardware_interface/EffortJointInterface</hardwareInterface>
        </joint>
        <actuator name="bacino_femore_dx_Y_motor">
            <hardwareInterface>hardware_interface/EffortJointInterface</hardwareInterface>
            <mechanicalReduction>1</mechanicalReduction>
        </actuator>
    </transmission>

    <transmission name="trans_bacino_femore_dx_X">
        <type>transmission_interface/SimpleTransmission</type>
        <joint name="bacino_femore_dx_X">
            <hardwareInterface>hardware_interface/EffortJointInterface</hardwareInterface>
        </joint>
        <actuator name="bacino_femore_dx_X_motor">
            <hardwareInterface>hardware_interface/EffortJointInterface</hardwareInterface>
            <mechanicalReduction>1</mechanicalReduction>
        </actuator>
    </transmission>

    <transmission name="trans_ginocchio_dx">
        <type>transmission_interface/SimpleTransmission</type>
        <joint name="ginocchio_dx">
            <hardwareInterface>hardware_interface/EffortJointInterface</hardwareInterface>
        </joint>
        <actuator name="ginocchio_dx_motor">
            <hardwareInterface>hardware_interface/EffortJointInterface</hardwareInterface>
            <mechanicalReduction>1</mechanicalReduction>
        </actuator>
    </transmission>

    <transmission name="trans_tibia_piede_dx_X">
        <type>transmission_interface/SimpleTransmission</type>
        <joint name="tibia_piede_dx_X">
            <hardwareInterface>hardware_interface/EffortJointInterface</hardwareInterface>
        </joint>
        <actuator name="tibia_piede_dx_X_motor">
            <hardwareInterface>hardware_interface/EffortJointInterface</hardwareInterface>
            <mechanicalReduction>1</mechanicalReduction>
        </actuator>
    </transmission>

    <transmission name="trans_tibia_piede_dx_Y">
        <type>transmission_interface/SimpleTransmission</type>
        <joint name="tibia_piede_dx_Y">
            <hardwareInterface>hardware_interface/EffortJointInterface</hardwareInterface>
        </joint>
        <actuator name="tibia_piede_dx_Y_motor">
            <hardwareInterface>hardware_interface/EffortJointInterface</hardwareInterface>
            <mechanicalReduction>1</mechanicalReduction>
        </actuator>
    </transmission>



<gazebo reference="piede_dx">
<sensor type="contact" name="piede_dx_contact">
  <always_on>true</always_on>
  <update_rate>5</update_rate>
  <contact>
    <collision>piede_dx_collision</collision>
  </contact>
  <plugin name="contact_plugin" filename="libgazebo_ros_bumper.so">
    <bumperTopicName>piede_dx_contact</bumperTopicName>
    <frameName>piede_dx</frameName>
  </plugin>       
</sensor>
</gazebo>


<gazebo reference="piede_sx">
<sensor type="contact" name="piede_sx_contact">
  <always_on>true</always_on>
  <update_rate>5</update_rate>
  <contact>
    <collision>piede_sx_collision</collision>
  </contact>
  <plugin name="contact_plugin" filename="libgazebo_ros_bumper.so">
    <bumperTopicName>piede_sx_contact</bumperTopicName>
    <frameName>piede_sx</frameName>
  </plugin>       
</sensor>
</gazebo>


<!-- ATTRITO E SENSORE DI CONTATTO PIEDE DESTRO -->

 <gazebo reference="sensore_dx1">
    <kp>100000.0</kp>
    <kd>100.0</kd>
    <mu1>200.0</mu1>
    <mu2>100.0</mu2>
    <!--<maxContacts>30</maxContacts>-->
    <fdir1>1 0 0</fdir1>
  </gazebo>
<gazebo reference="sensore_dx1">
<sensor type="contact" name="sensore_contact_dx1">
  <always_on>true</always_on>
  <update_rate>5</update_rate>
  <contact>
    <collision>sensore_dx1_collision</collision>
  </contact>
  <plugin name="contact_plugin" filename="libgazebo_ros_bumper.so">
    <bumperTopicName>sensore_contact_dx1</bumperTopicName>
    <frameName>sensore_dx1</frameName>
  </plugin>       
</sensor>
</gazebo>


 <gazebo reference="sensore_dx2">
    <kp>100000.0</kp>
    <kd>100.0</kd>
    <mu1>200.0</mu1>
    <mu2>100.0</mu2>
    <!--<maxContacts>30</maxContacts>-->
    <fdir1>1 0 0</fdir1>
  </gazebo>
<gazebo reference="sensore_dx2">
<sensor type="contact" name="sensore_contact_dx2">
  <always_on>true</always_on>
  <update_rate>5</update_rate>
  <contact>
    <collision>sensore_dx2_collision</collision>
  </contact>
  <plugin name="contact_plugin" filename="libgazebo_ros_bumper.so">
    <bumperTopicName>sensore_contact_dx2</bumperTopicName>
    <frameName>sensore_dx2</frameName>
  </plugin>       
</sensor>
</gazebo>


 <gazebo reference="sensore_dx3">
    <kp>100000.0</kp>
    <kd>100.0</kd>
    <mu1>200.0</mu1>
    <mu2>100.0</mu2>
    <!--<maxContacts>30</maxContacts>-->
    <fdir1>1 0 0</fdir1>
  </gazebo>
<gazebo reference="sensore_dx3">
<sensor type="contact" name="sensore_contact_dx3">
  <always_on>true</always_on>
  <update_rate>5</update_rate>
  <contact>
    <collision>sensore_dx3_collision</collision>
  </contact>
  <plugin name="gazebo_ros_bumper_controller" filename="libgazebo_ros_bumper.so">
    <bumperTopicName>sensore_contact_dx3</bumperTopicName>
    <frameName>sensore_dx3</frameName>
  </plugin>       
</sensor>
</gazebo>


 <gazebo reference="sensore_dx4">
    <kp>100000.0</kp>
    <kd>100.0</kd>
    <mu1>200.0</mu1>
    <mu2>100.0</mu2>
    <!--<maxContacts>30</maxContacts>-->
    <fdir1>1 0 0</fdir1>
  </gazebo>
<gazebo reference="sensore_dx4">
<sensor type="contact" name="sensore_contact_dx4">
  <always_on>true</always_on>
  <update_rate>5</update_rate>
  <contact>
    <collision>sensore_dx4_collision</collision>
  </contact>
  <plugin name="contact_plugin" filename="libgazebo_ros_bumper.so">
    <bumperTopicName>sensore_contact_dx4</bumperTopicName>
    <frameName>sensore_dx4</frameName>
  </plugin>       
</sensor>
</gazebo>



 <gazebo reference="sensore_sx1">
    <kp>100000.0</kp>
    <kd>100.0</kd>
    <mu1>200.0</mu1>
    <mu2>100.0</mu2>
    <!--<maxContacts>30</maxContacts>-->
    <fdir1>1 0 0</fdir1>
  </gazebo>
<gazebo reference="sensore_sx1">
<sensor type="contact" name="sensore_contact_sx1">
  <always_on>true</always_on>
  <update_rate>5</update_rate>
  <contact>
    <collision>sensore_sx1_collision</collision>
  </contact>
  <plugin name="gazebo_ros_bumper_controller" filename="libgazebo_ros_bumper.so">
    <bumperTopicName>sensore_contact_sx1</bumperTopicName>
    <frameName>sensore_sx1</frameName>
  </plugin>       
</sensor>
</gazebo>


 <gazebo reference="sensore_sx2">
    <kp>100000.0</kp>
    <kd>100.0</kd>
    <mu1>200.0</mu1>
    <mu2>100.0</mu2>
    <!--<maxContacts>30</maxContacts>-->
    <fdir1>1 0 0</fdir1>
  </gazebo>
<gazebo reference="sensore_sx2">
<sensor type="contact" name="sensore_contact_sx2">
  <always_on>true</always_on>
  <update_rate>5</update_rate>
  <contact>
    <collision>sensore_sx2_collision</collision>
  </contact>
  <plugin name="gazebo_ros_bumper_controller" filename="libgazebo_ros_bumper.so">
    <bumperTopicName>sensore_contact_sx2</bumperTopicName>
    <frameName>sensore_sx2</frameName>
  </plugin>       
</sensor>
</gazebo>


 <gazebo reference="sensore_sx3">
    <kp>100000.0</kp>
    <kd>100.0</kd>
    <mu1>200.0</mu1>
    <mu2>100.0</mu2>
    <!--<maxContacts>30</maxContacts>-->
    <fdir1>1 0 0</fdir1>
  </gazebo>
<gazebo reference="sensore_sx3">
<sensor type="contact" name="sensore_contact_sx3">
  <always_on>true</always_on>
  <update_rate>5</update_rate>
  <contact>
    <collision>sensore_sx3_collision</collision>
  </contact>
  <plugin name="gazebo_ros_bumper_controller" filename="libgazebo_ros_bumper.so">
    <bumperTopicName>sensore_contact_sx3</bumperTopicName>
    <frameName>sensore_sx3</frameName>
  </plugin>       
</sensor>
</gazebo>


 <gazebo reference="sensore_sx4">
    <kp>100000.0</kp>
    <kd>100.0</kd>
    <mu1>200.0</mu1>
    <mu2>100.0</mu2>
    <!--<maxContacts>30</maxContacts>-->
    <fdir1>1 0 0</fdir1>
  </gazebo>
<gazebo reference="sensore_sx4">
<sensor type="contact" name="sensore_contact_sx4">
  <always_on>true</always_on>
  <update_rate>5</update_rate>
  <contact>
    <collision>sensore_sx4_collision</collision>
  </contact>
  <plugin name="gazebo_ros_bumper_controller" filename="libgazebo_ros_bumper.so">
    <bumperTopicName>sensore_contact_sx4</bumperTopicName>
    <frameName>sensore_sx4</frameName>
  </plugin>       
</sensor>
</gazebo>

</robot>
